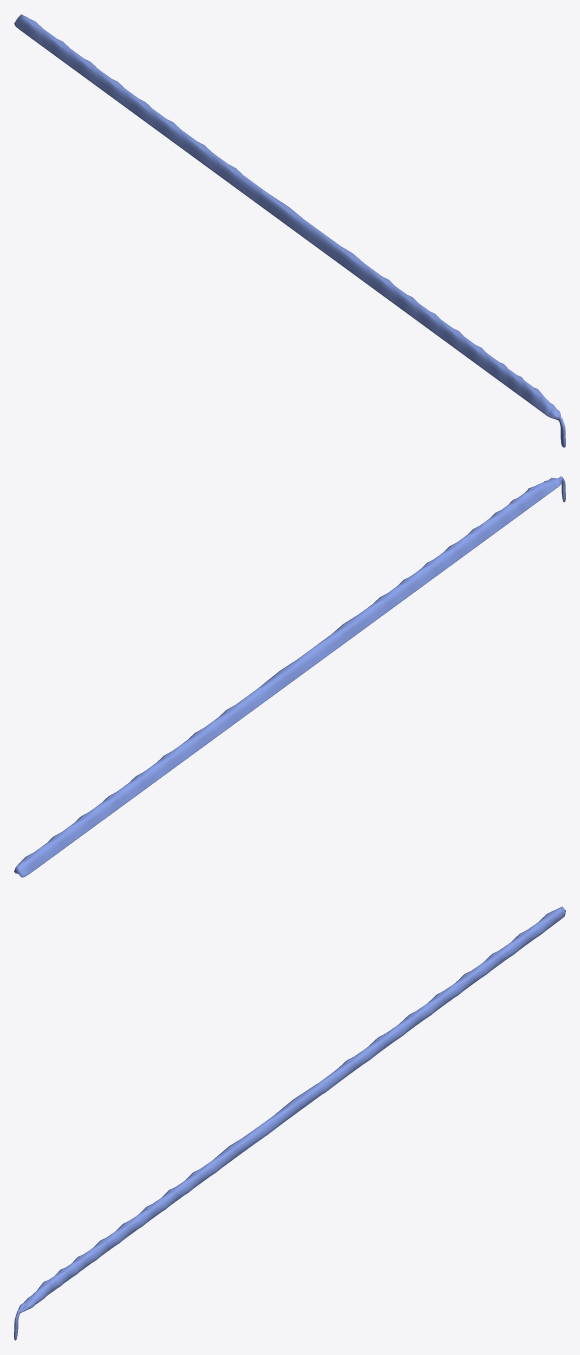
Rendered from rio_v9.fbx.
3 renders of one model, top to bottom at view 1: azimuth 30°, elevation 25°; view 2: azimuth 150°, elevation 25°; view 3: azimuth 330°, elevation 25°, orthographic.
Visible parts, largest first — view 1: Cylinder.001; view 2: Cylinder.001; view 3: Cylinder.001.
Boxes of the visible parts, <box> form: Cylinder.001: <box>14,14,565,447</box>; Cylinder.001: <box>14,476,565,877</box>; Cylinder.001: <box>14,906,565,1340</box>.
Bounding box in the file's own units: 1133 × 3548 × 95779.
